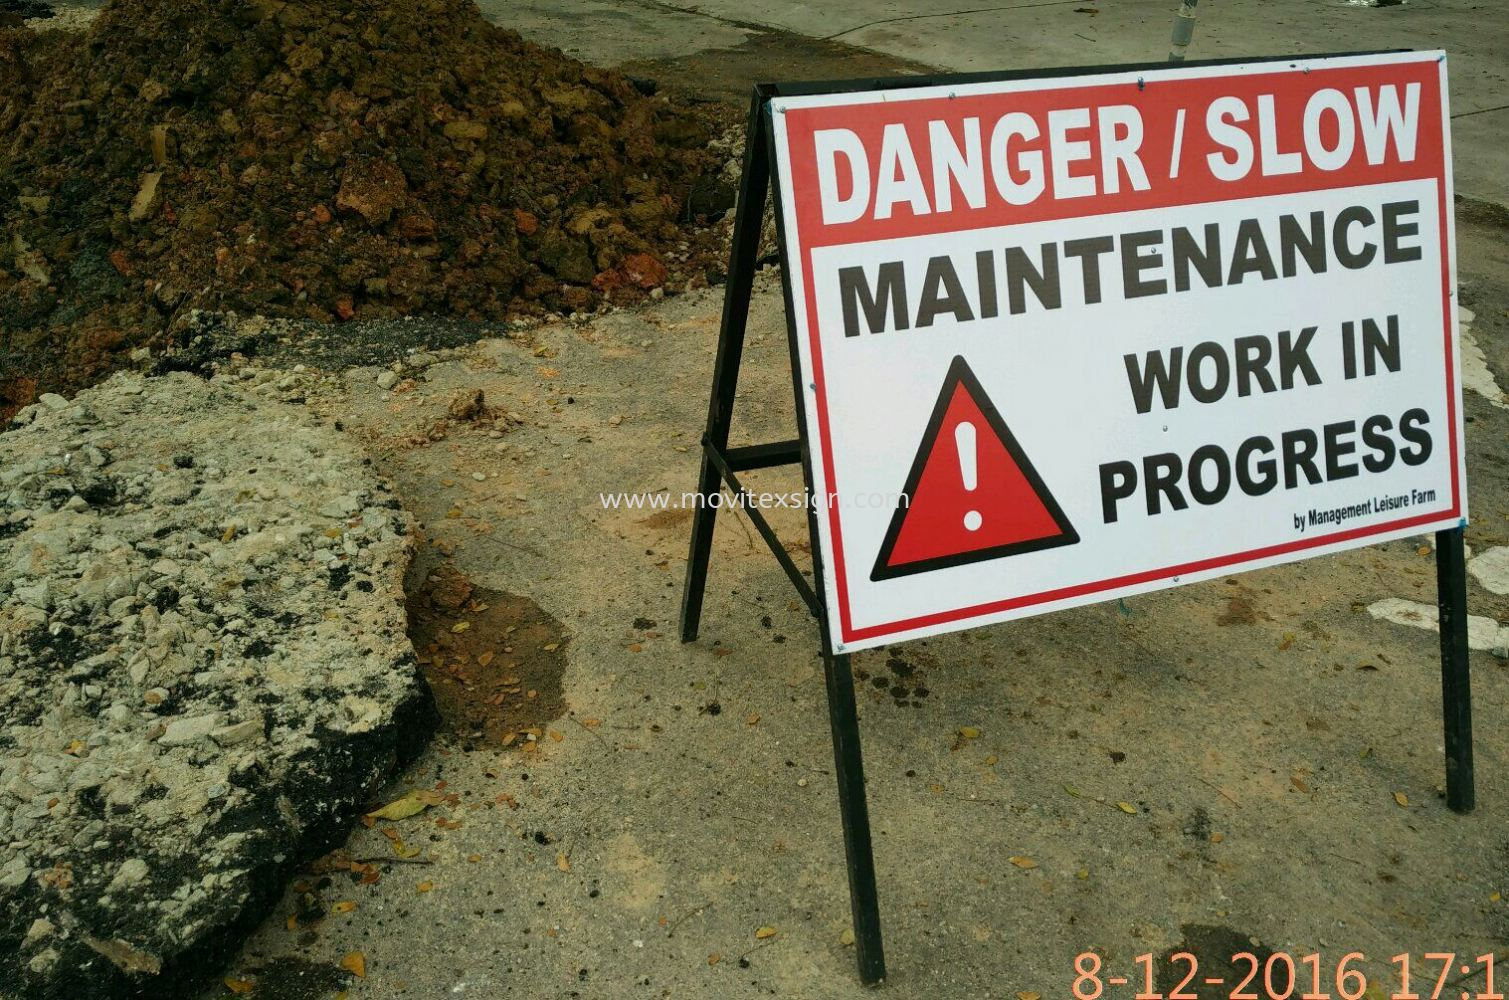caution: (865, 350, 1086, 590)
